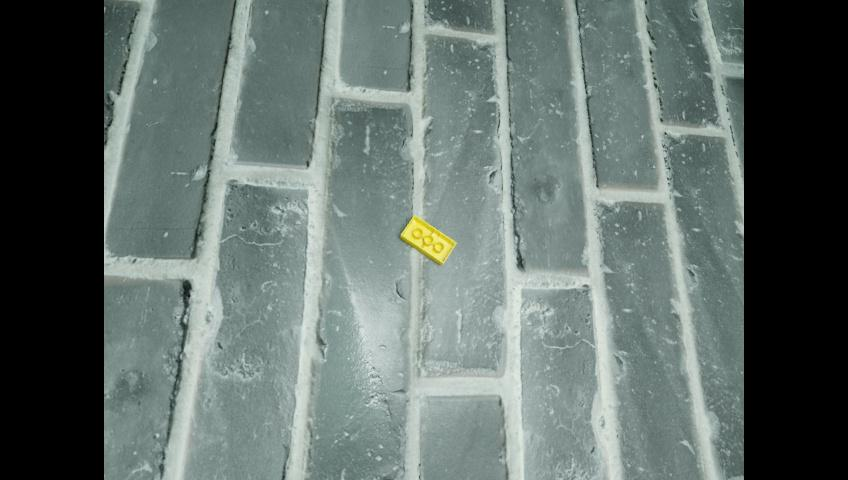4x2_yellow: (401, 214, 456, 265)
